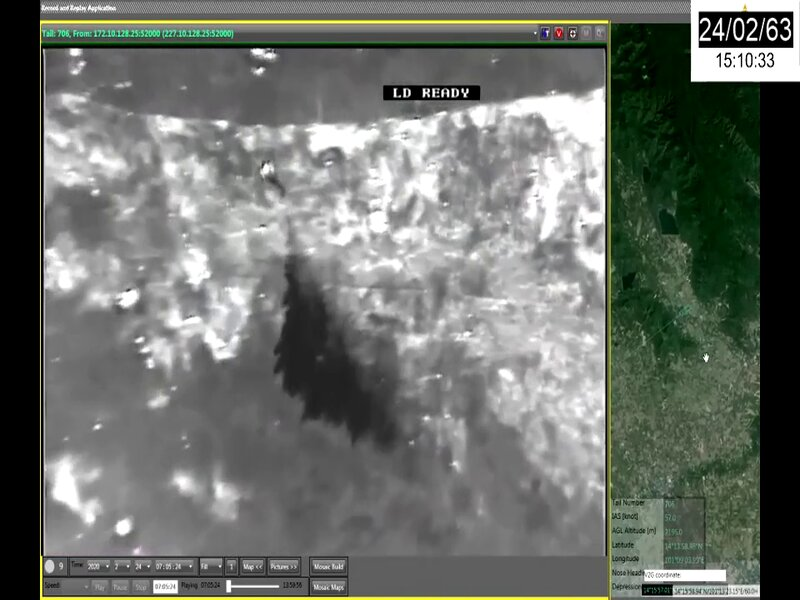Fire: (311, 89, 603, 289)
